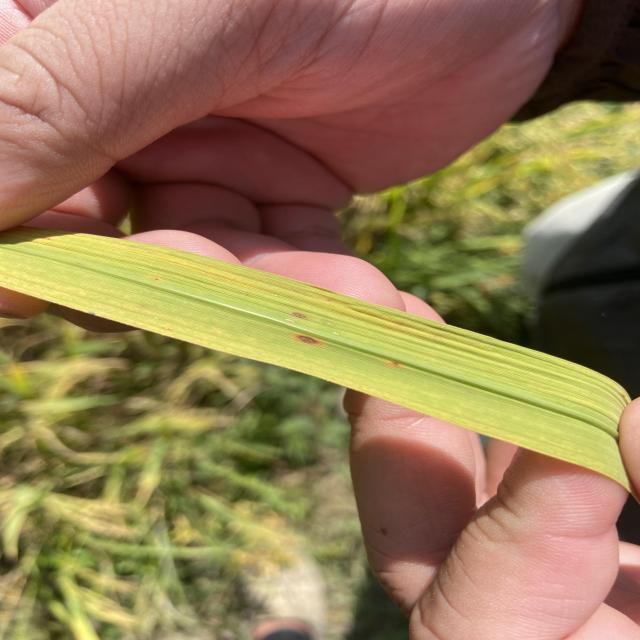Dom nau: (295, 335, 318, 345), (293, 312, 306, 318), (392, 362, 399, 365)
